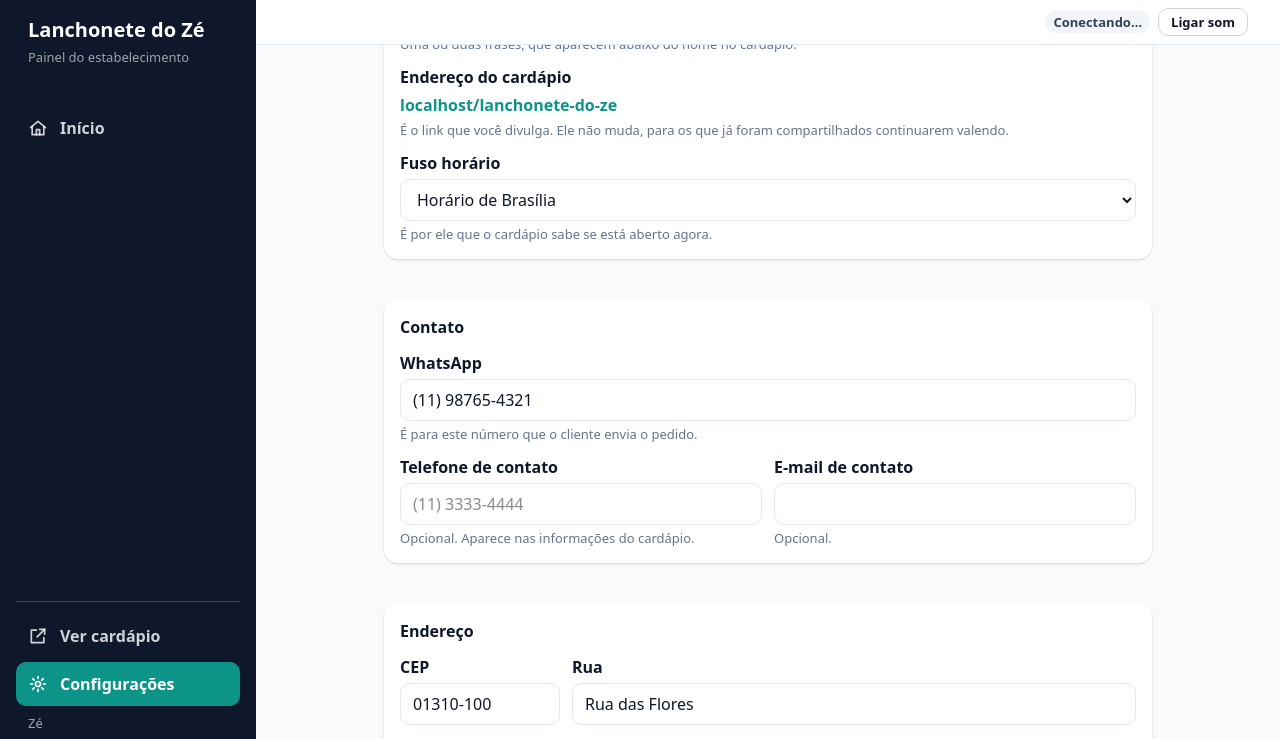
tela de configurações › o telefone ganha a máscara enquanto é digitado
(page scrolled)
Type "11988887777" into the field labelled "WhatsApp" at [768, 400], box [400,379,1136,421]
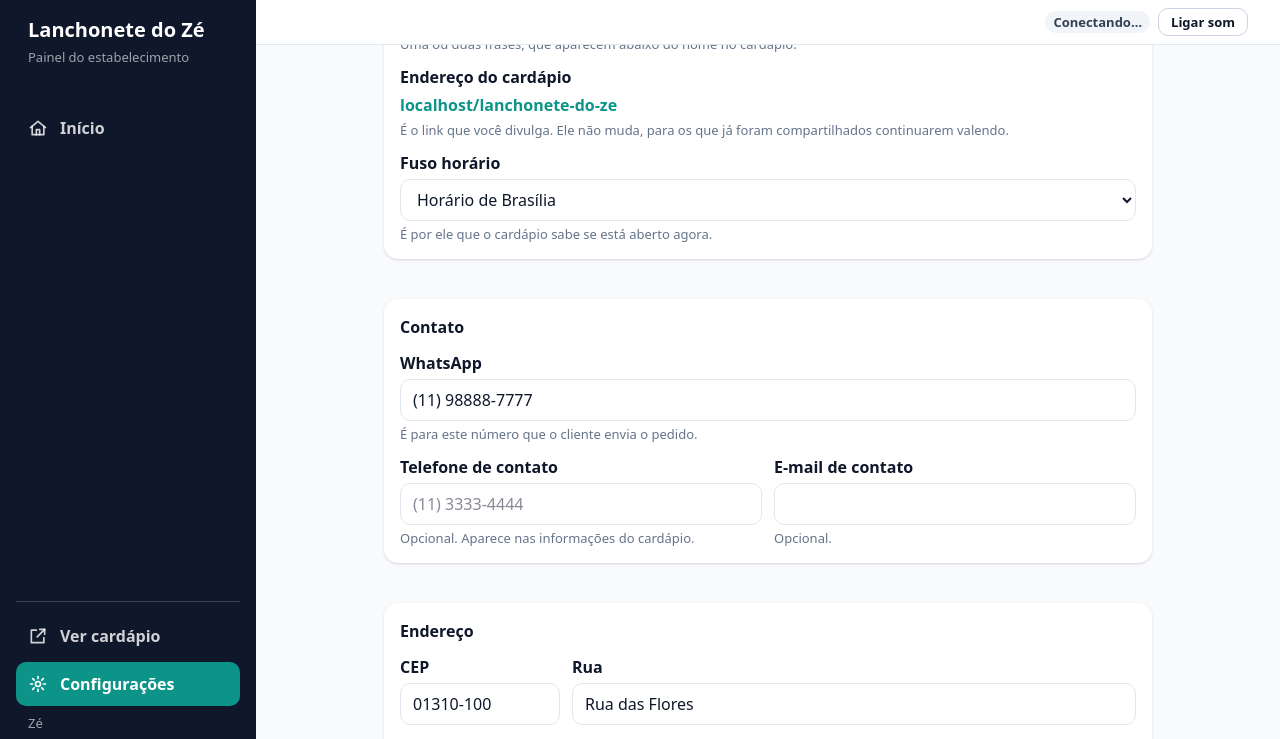
Expected: the field labelled "WhatsApp" holds "(11) 98888-7777", [400,379,1136,421]
